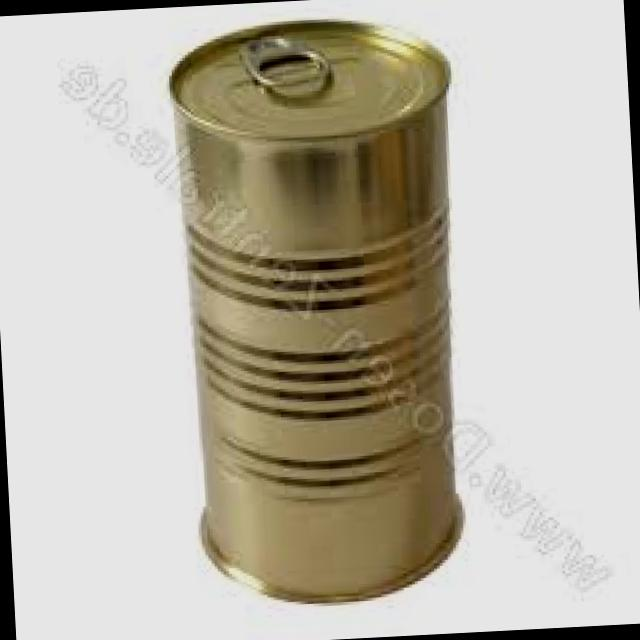metal: (171, 22, 459, 603), (242, 37, 330, 91)
